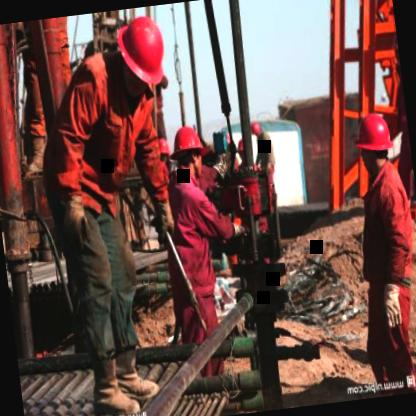helmet: (114, 9, 176, 107), (354, 110, 398, 180), (167, 119, 212, 182), (249, 118, 267, 142)
